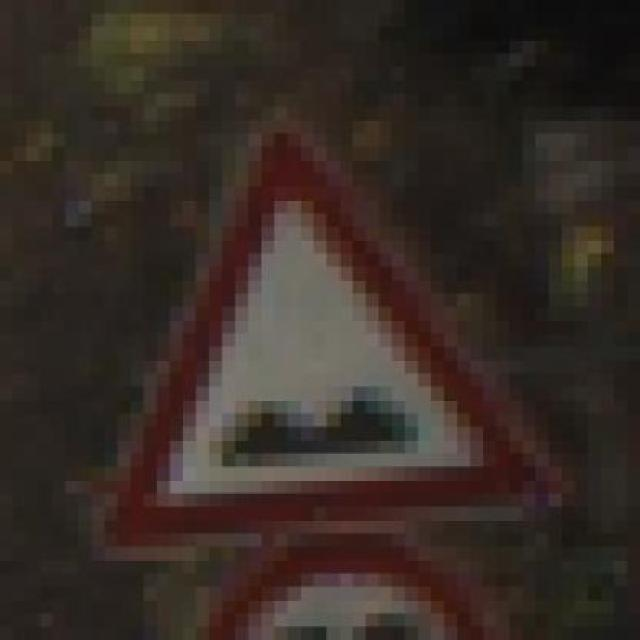Uneven Road: (78, 119, 574, 547)
